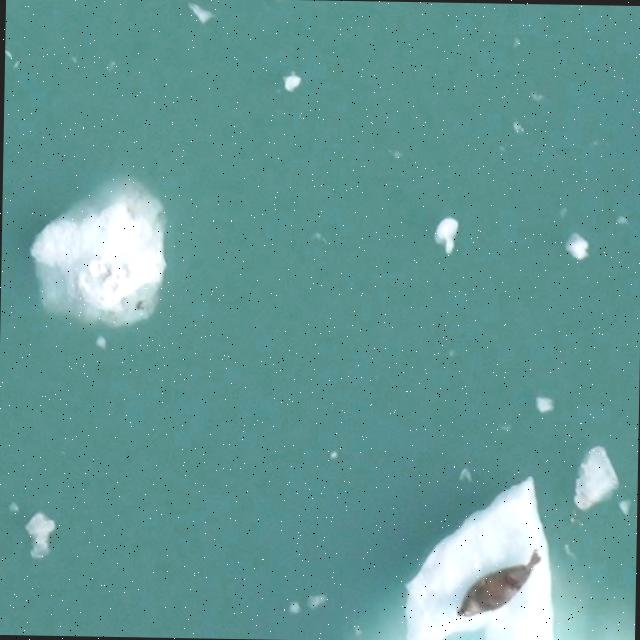seal: (445, 544, 552, 629)
